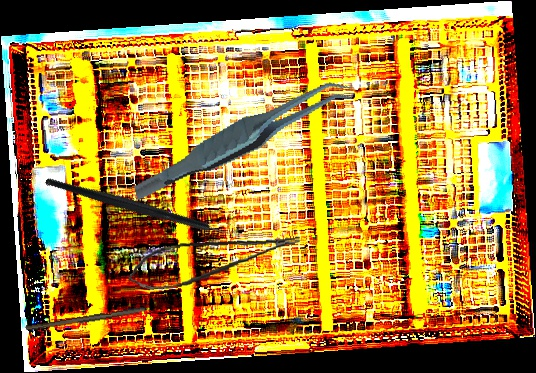Chopper: (44, 115, 247, 295)
Micro Scissor: (125, 229, 304, 296)
Scalpel Handle: (25, 304, 147, 335)
Tissue Forceps: (121, 77, 364, 202)
